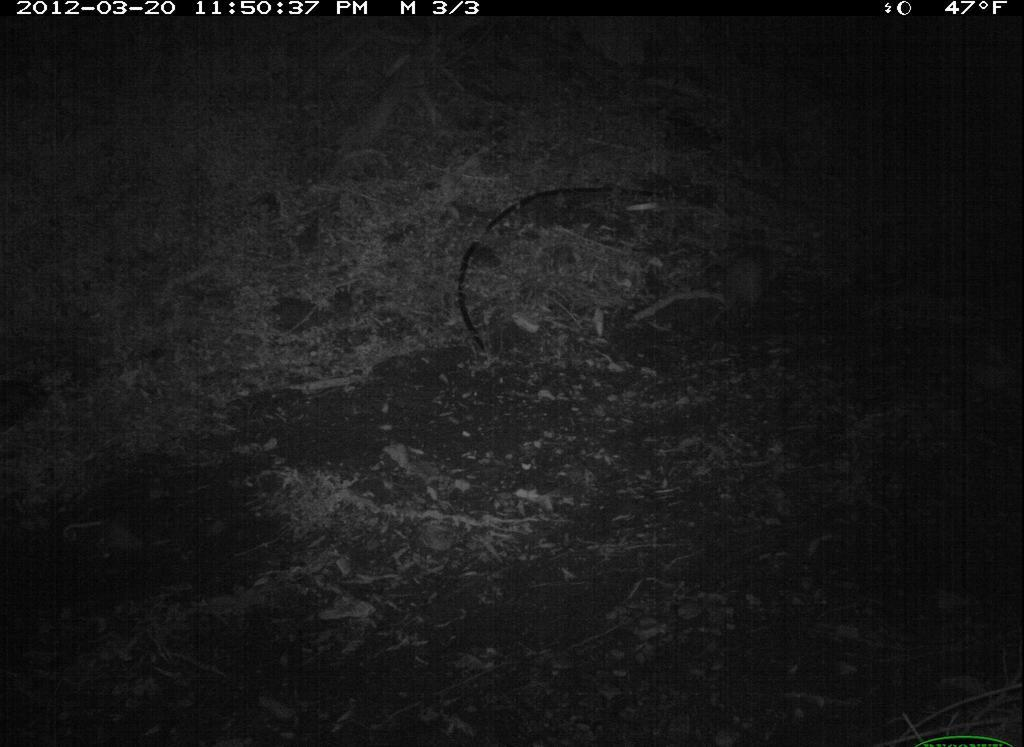opossum: (712, 241, 786, 338)
